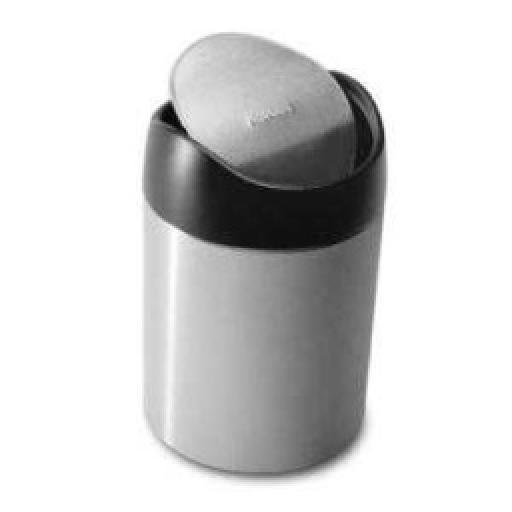trash-can: (118, 3, 398, 490)
